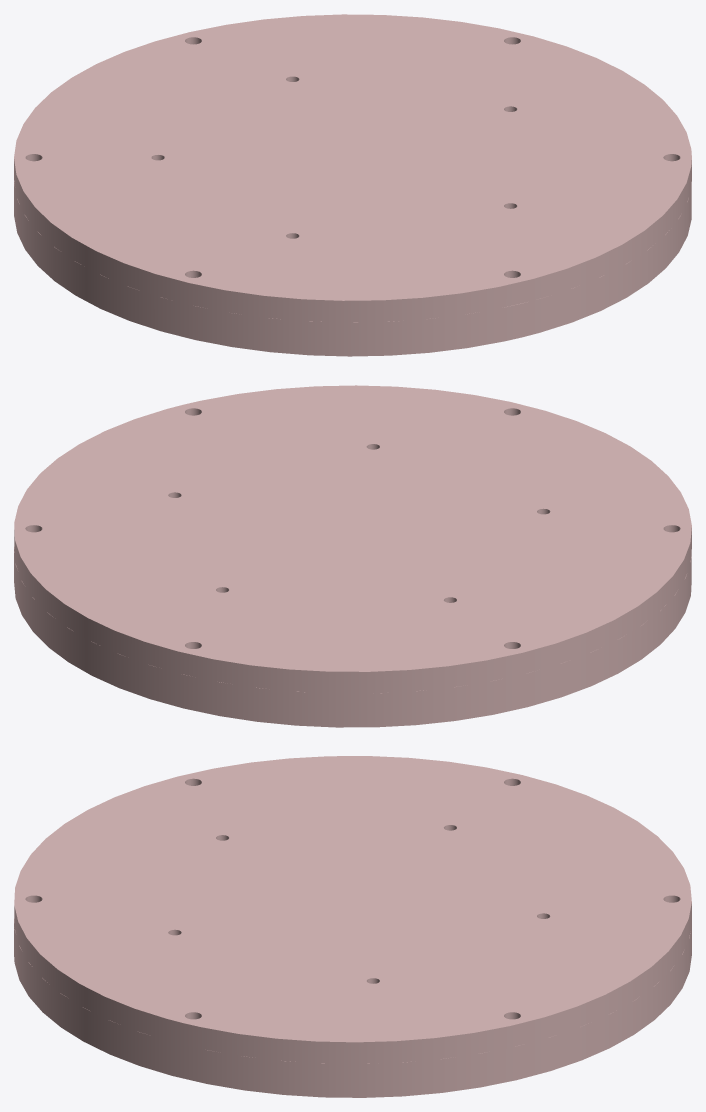
Rendered from ActuatorMoldAssembly.glb.
3 views of the same model, one above another, from view 1: azimuth 30°, elevation 25°; view 2: azimuth 150°, elevation 25°; view 3: azimuth 270°, elevation 25° (orthographic).
Visible parts, largest first — view 1: polypropylene-3, polypropylene; view 2: polypropylene-3, polypropylene; view 3: polypropylene-3, polypropylene.
Part boxes in pixels (<box>): polypropylene-3: <box>14,14,691,322</box>; polypropylene: <box>14,181,691,356</box>; polypropylene-3: <box>14,385,691,693</box>; polypropylene: <box>14,547,691,727</box>; polypropylene-3: <box>14,756,691,1063</box>; polypropylene: <box>14,919,691,1097</box>.
Bounding box in the file's own units: 0.127 × 0.0115 × 0.127.
